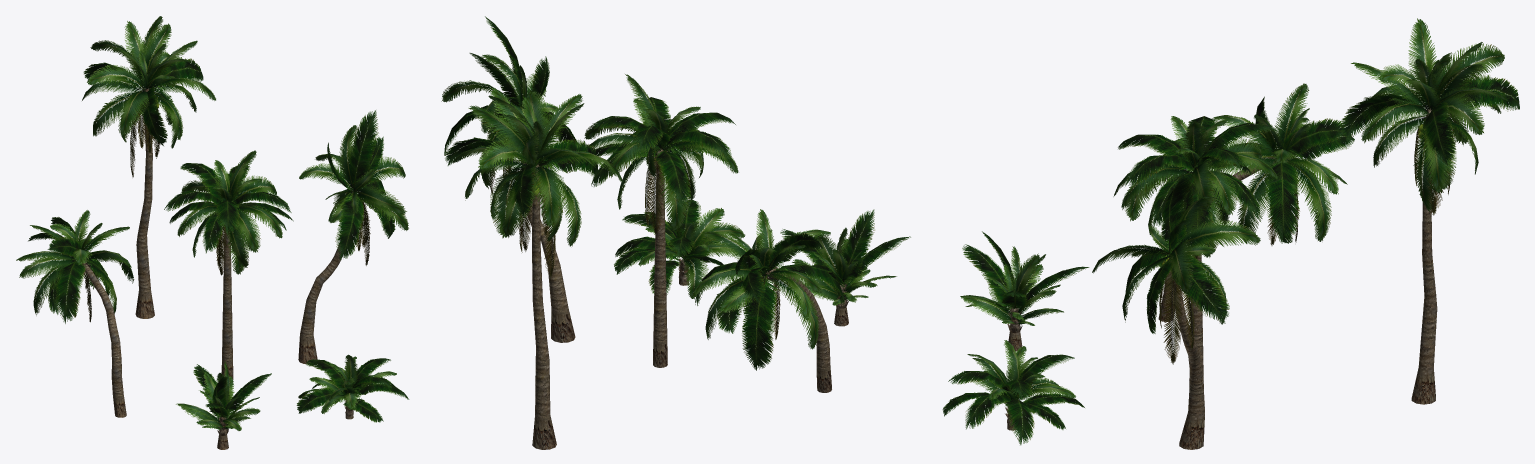
The model's file is palm1.obj.
The picture shows the model from 3 angles, left to right: view 1: azimuth 30°, elevation 25°; view 2: azimuth 150°, elevation 25°; view 3: azimuth 270°, elevation 25°; orthographic projection. The views are drawn at different scales.
Parts seen in each view (by area): view 1: polySurface342, polySurface335, polySurface336, polySurface343, polySurface338, polySurface339, polySurface290, polySurface234, polySurface262, polySurface229; view 2: polySurface342, polySurface343, polySurface335, polySurface338, polySurface336, polySurface339, polySurface290, polySurface229, polySurface262, polySurface234; view 3: polySurface342, polySurface336, polySurface335, polySurface343, polySurface338, polySurface339, polySurface290, polySurface262, polySurface229, polySurface234.
Boxes of the visible parts, x1,y1,x2,y2 form: polySurface342: (82, 16, 215, 177); polySurface335: (164, 150, 293, 275); polySurface336: (299, 110, 408, 265); polySurface343: (16, 210, 134, 323); polySurface338: (296, 354, 409, 422); polySurface339: (176, 361, 271, 435); polySurface290: (135, 88, 154, 318); polySurface234: (82, 263, 126, 417); polySurface262: (298, 192, 352, 364); polySurface229: (221, 228, 233, 378); polySurface342: (444, 87, 622, 278); polySurface343: (693, 209, 844, 370); polySurface335: (584, 74, 738, 235); polySurface338: (614, 199, 745, 299); polySurface336: (441, 16, 576, 204); polySurface339: (780, 209, 910, 308); polySurface290: (532, 164, 556, 449); polySurface229: (653, 148, 667, 367); polySurface262: (521, 161, 575, 342); polySurface234: (766, 271, 831, 392); polySurface342: (1339, 18, 1519, 215); polySurface336: (1092, 172, 1260, 364); polySurface335: (1113, 116, 1278, 259); polySurface343: (1212, 83, 1354, 245); polySurface338: (942, 340, 1084, 445); polySurface339: (960, 231, 1089, 332); polySurface290: (1411, 108, 1437, 404); polySurface262: (1171, 258, 1204, 449); polySurface229: (1189, 253, 1203, 388); polySurface234: (1158, 157, 1275, 321).
Bounding box in the file's own units: 334 × 256 × 368.
Materials: 2 (2 with a texture image).
